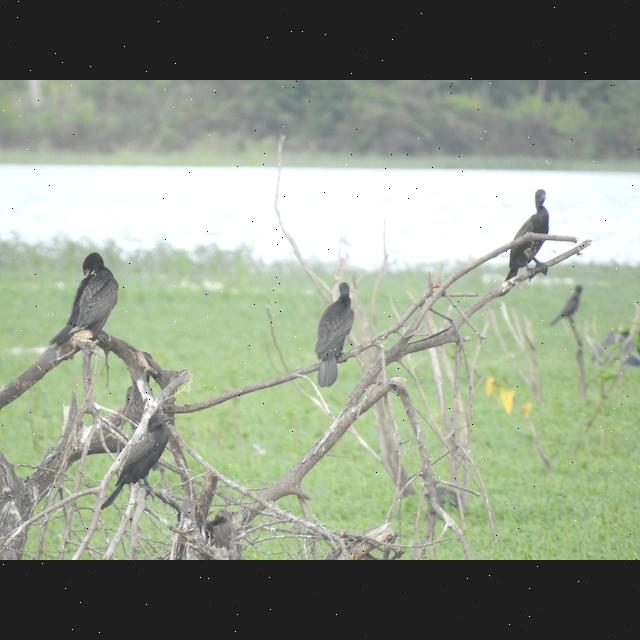cormorant: (56, 250, 132, 352), (110, 405, 178, 507), (504, 187, 562, 279), (316, 278, 360, 390)
